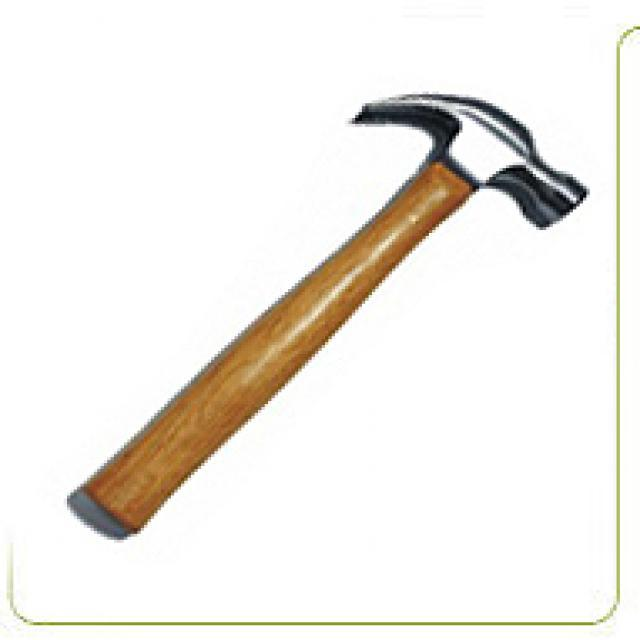hammer: (62, 82, 598, 548)
